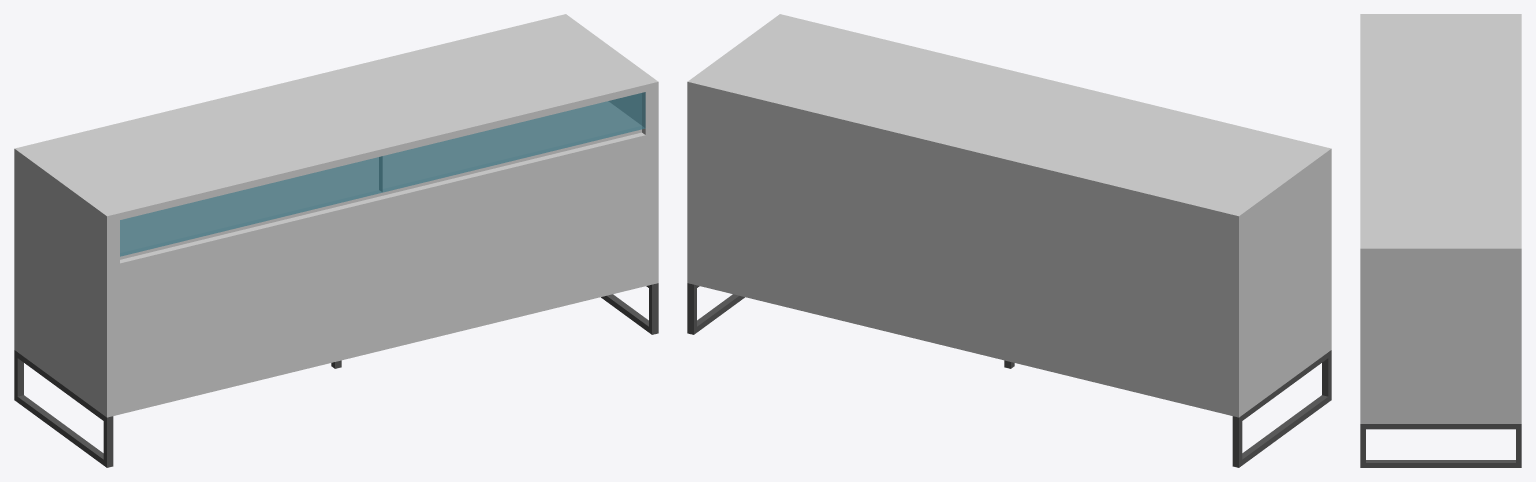
File: MZACB04.FBX
3 renders of one model, left to right at view 1: azimuth 30°, elevation 25°; view 2: azimuth 150°, elevation 25°; view 3: azimuth 270°, elevation 25°, orthographic. The views are drawn at different scales.
Visible parts, largest first — view 1: MZACB04; view 2: MZACB04; view 3: MZACB04.
Part boxes in pixels (bbox=[...]): MZACB04: bbox=[14, 14, 658, 467]; MZACB04: bbox=[687, 14, 1331, 467]; MZACB04: bbox=[1360, 14, 1521, 467].
Bounding box in the file's own units: 172 × 50 × 75.
